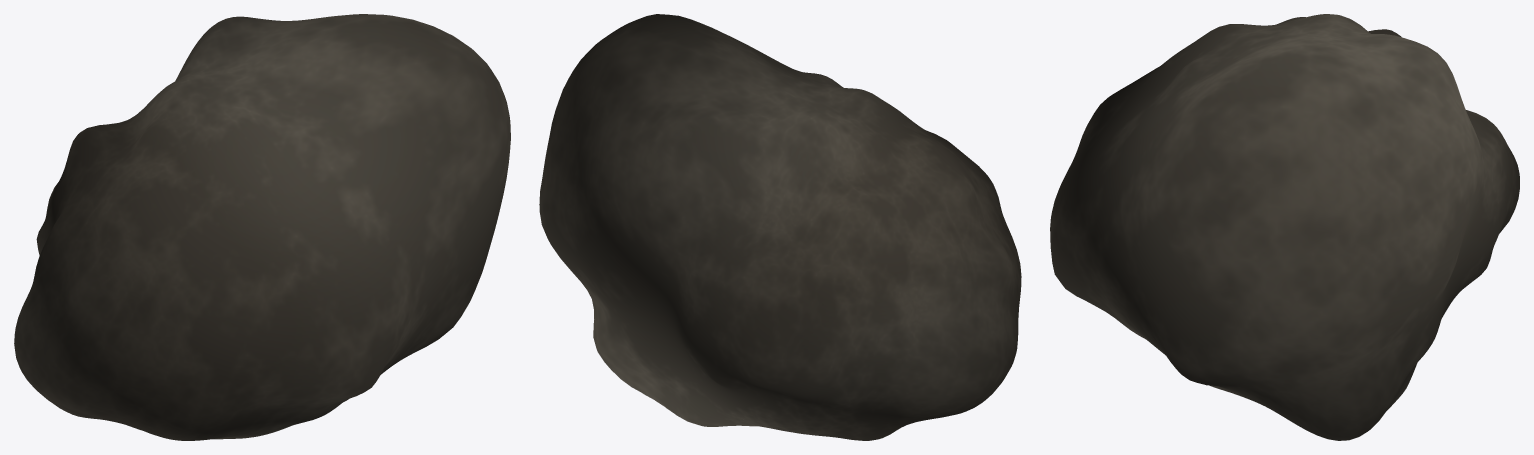
Rendered from asteroid-blob.glb.
3 views of the same model, side by side, from view 1: azimuth 30°, elevation 25°; view 2: azimuth 150°, elevation 25°; view 3: azimuth 270°, elevation 25° (orthographic). The views are drawn at different scales.
Visible parts, largest first — view 1: asteroid_2003; view 2: asteroid_2003; view 3: asteroid_2003.
Boxes of the visible parts, x1=… form: asteroid_2003: x1=14, y1=14, x2=510, y2=440; asteroid_2003: x1=539, y1=14, x2=1021, y2=440; asteroid_2003: x1=1050, y1=14, x2=1519, y2=440.
Size of the model in its own units: 47.01 by 35.62 by 39.01.
1 material, 1 textured.
